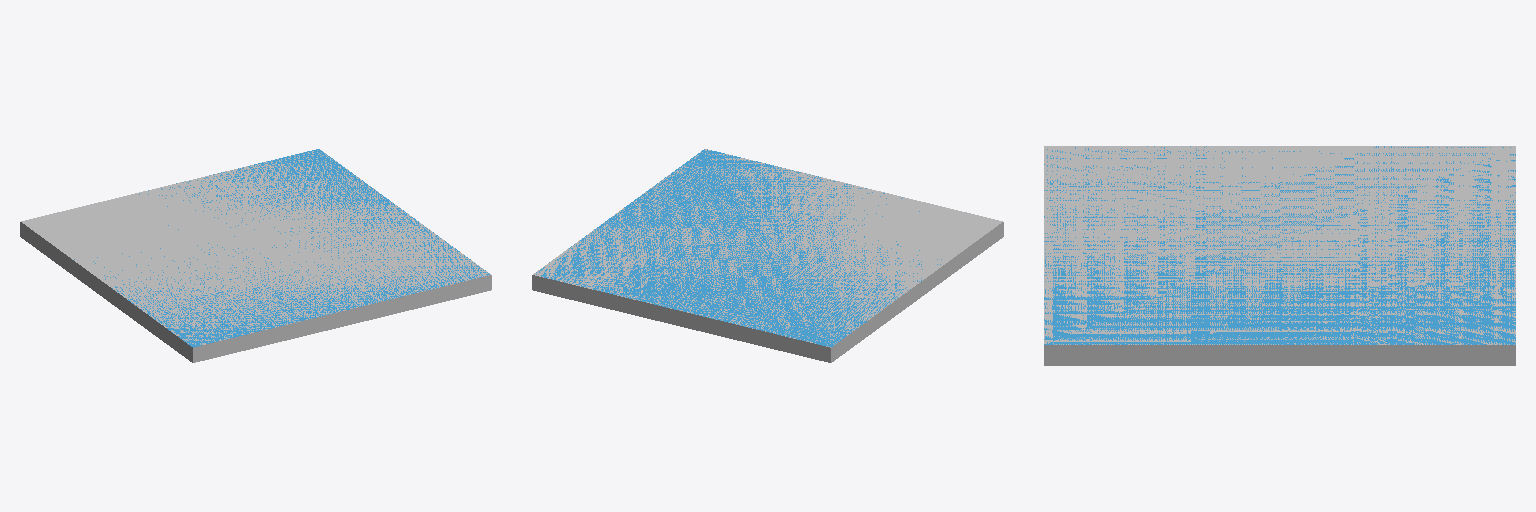
URDF robot description (aruco_tag):
<?xml version="1.0"?>
<robot name="aruco_tag">
    <link name="base_link"></link>
    <joint name="base_joint" type="fixed">
        <origin xyz="0 0 0" rpy="0 0 0" />
        <parent link="base_link" />
        <child link="landing_surface" />
    </joint>
    <link name="landing_surface">
        <visual>
            <geometry>
                <mesh filename="package://dji_m210_description/meshes/aruco_tag_14.dae"/>
            </geometry>
        </visual>
    </link>
</robot>

--- Facts derived from the render (not from the file) ---
The picture shows the robot from 3 angles, left to right: view 1: azimuth 30°, elevation 25°; view 2: azimuth 150°, elevation 25°; view 3: azimuth 270°, elevation 25°; orthographic projection.
Model aruco_tag with 2 links and 1 joints (1 fixed), rooted at base_link, posed all joints at 0.
Visible links, largest first — view 1: landing_surface; view 2: landing_surface; view 3: landing_surface.
Link boxes in pixels (x1,y1,x2,y2): landing_surface: (20,149,491,362); landing_surface: (532,149,1003,362); landing_surface: (1044,146,1515,365).
Bounding box of the posed robot: 2 × 2 × 0.1 m (x, y, z).
Meshes: 1 distinct files referenced, 1 mesh visuals loaded (1 Collada DAE).